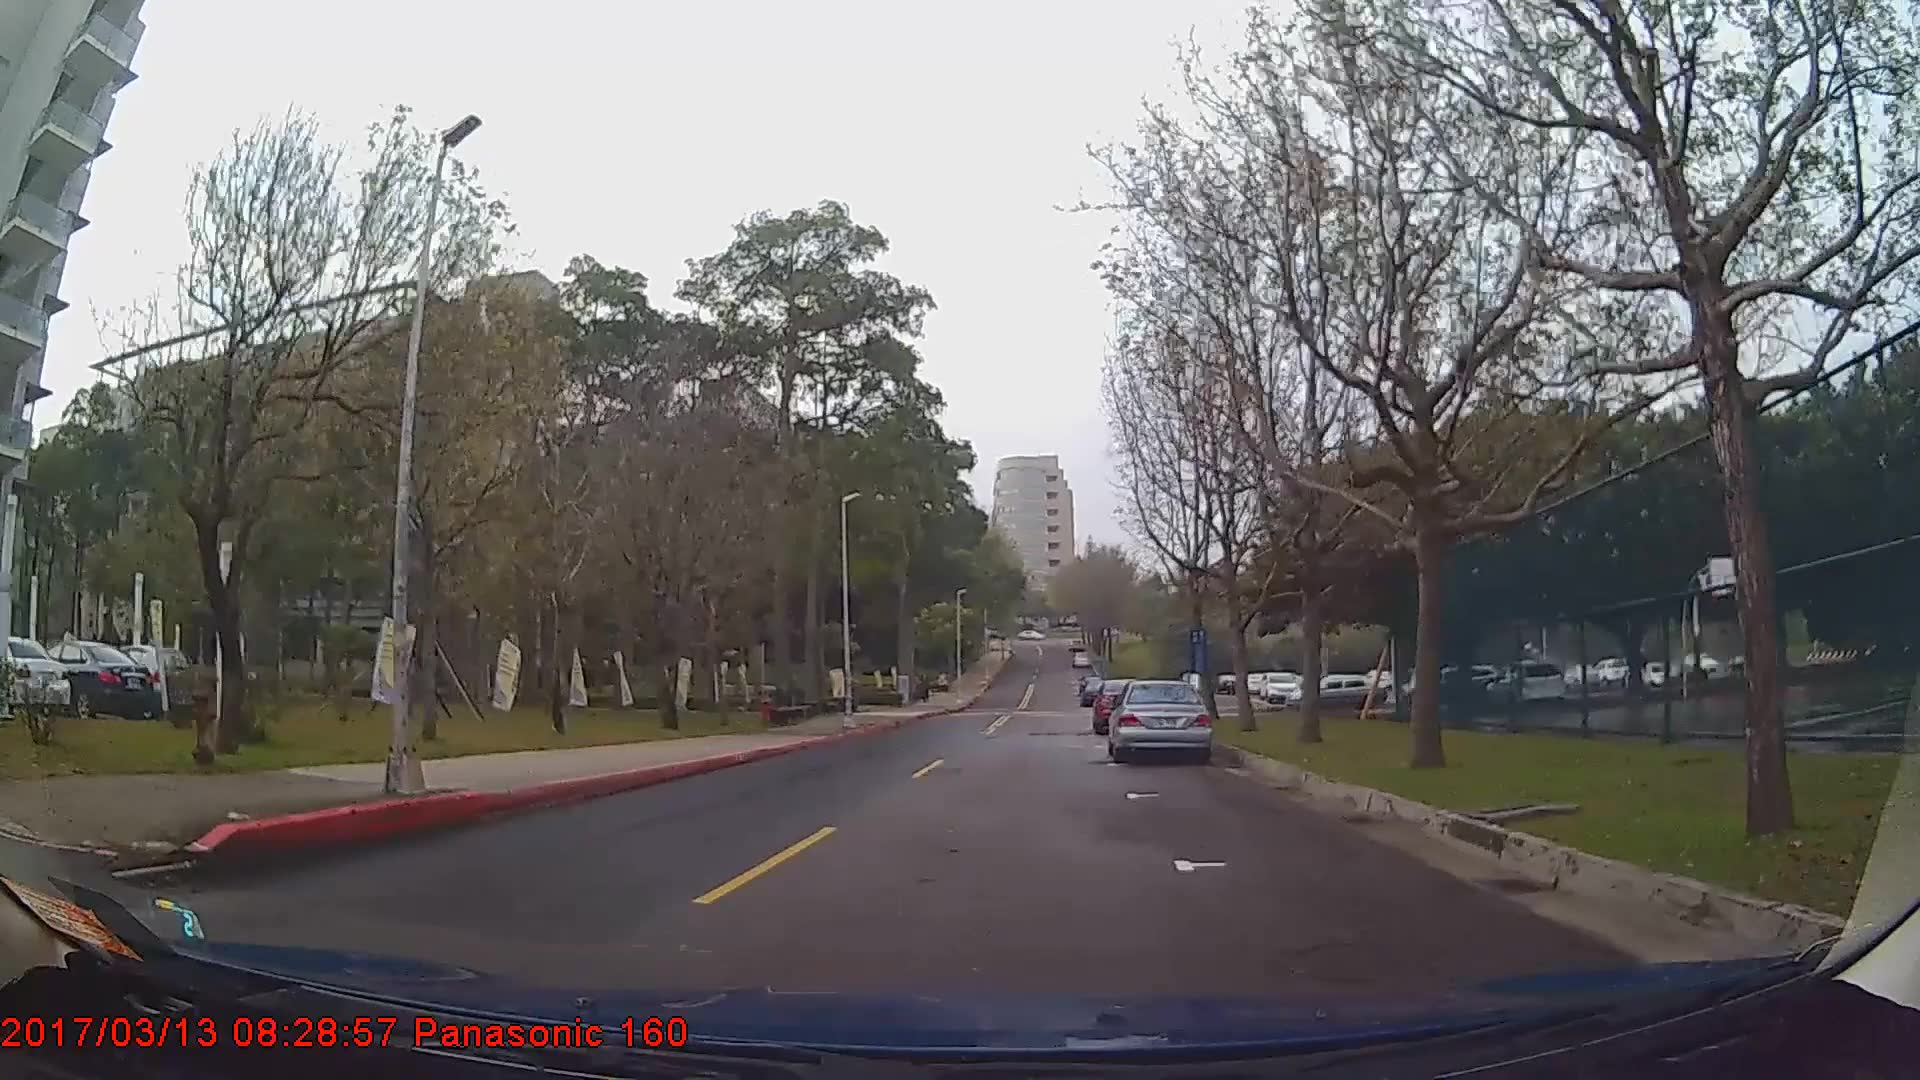vehicle: (36, 638, 153, 721), (1108, 679, 1213, 764), (94, 642, 190, 709), (1, 632, 71, 717), (1284, 670, 1386, 712)
